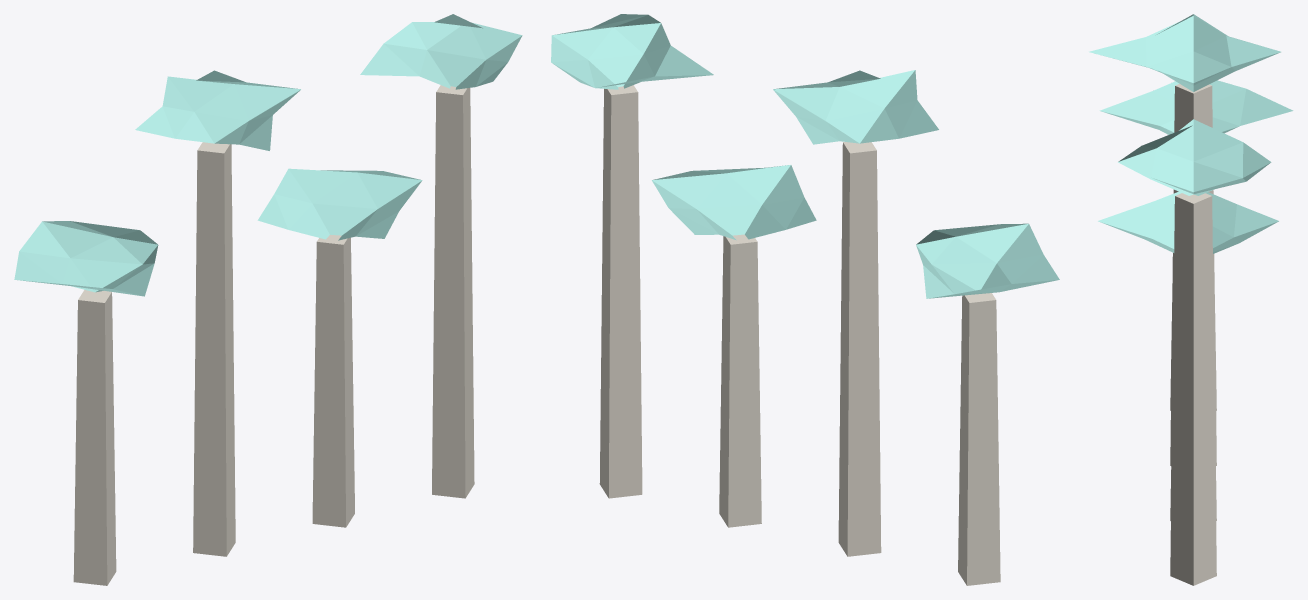
File: glowcap_v02.glb
3 views of the same model, side by side, from view 1: azimuth 30°, elevation 25°; view 2: azimuth 150°, elevation 25°; view 3: azimuth 270°, elevation 25° (orthographic). The views are drawn at different scales.
Parts seen in each view (by area): view 1: lod0; view 2: lod0; view 3: lod0.
Boxes of the visible parts, left/top/right/bottom form: lod0: left=14, top=14, right=522, bottom=585; lod0: left=551, top=14, right=1059, bottom=585; lod0: left=1089, top=14, right=1293, bottom=585.
Size of what is drawn, in the model's own units: 0.596 by 0.5349 by 0.2205.
